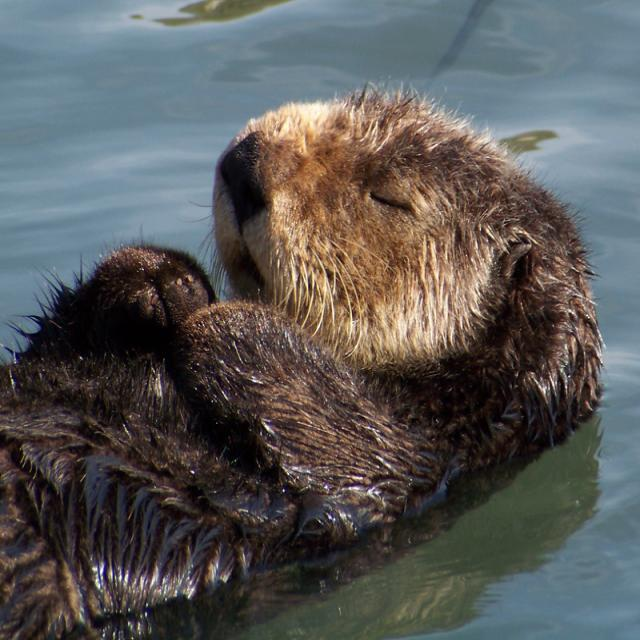otter: (1, 94, 600, 640)
